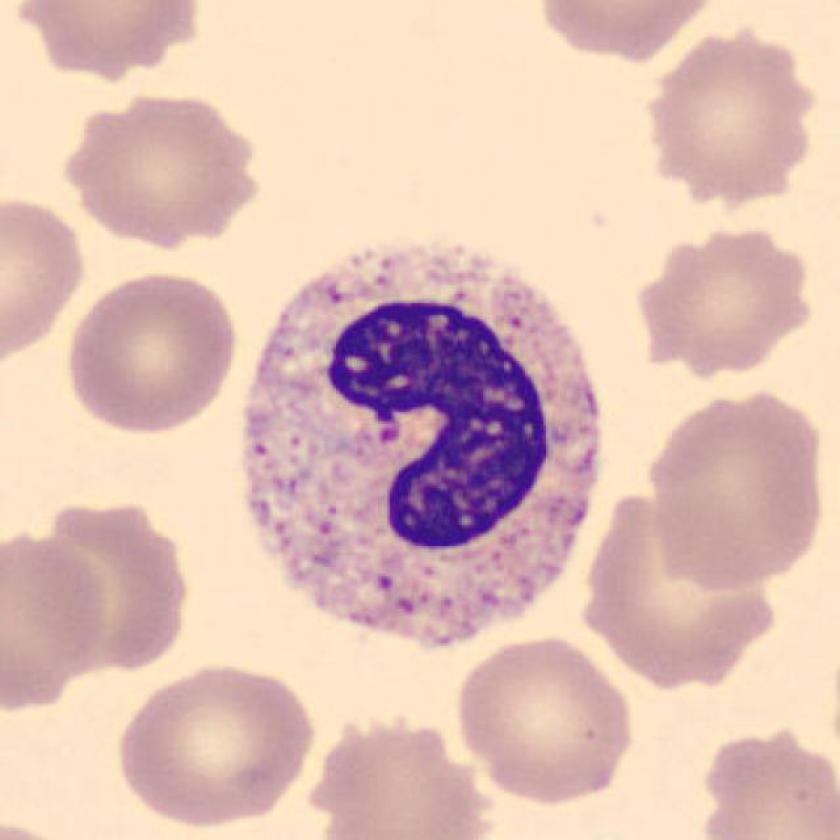neutrophil: (243, 248, 600, 653)
